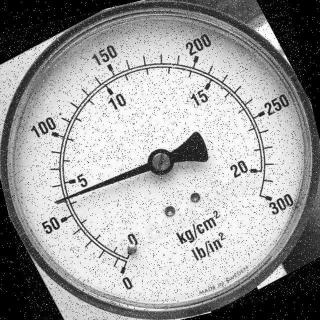gauge: (0, 0, 320, 320), (246, 178, 284, 218), (106, 252, 142, 288), (146, 144, 177, 178), (48, 193, 66, 209)
